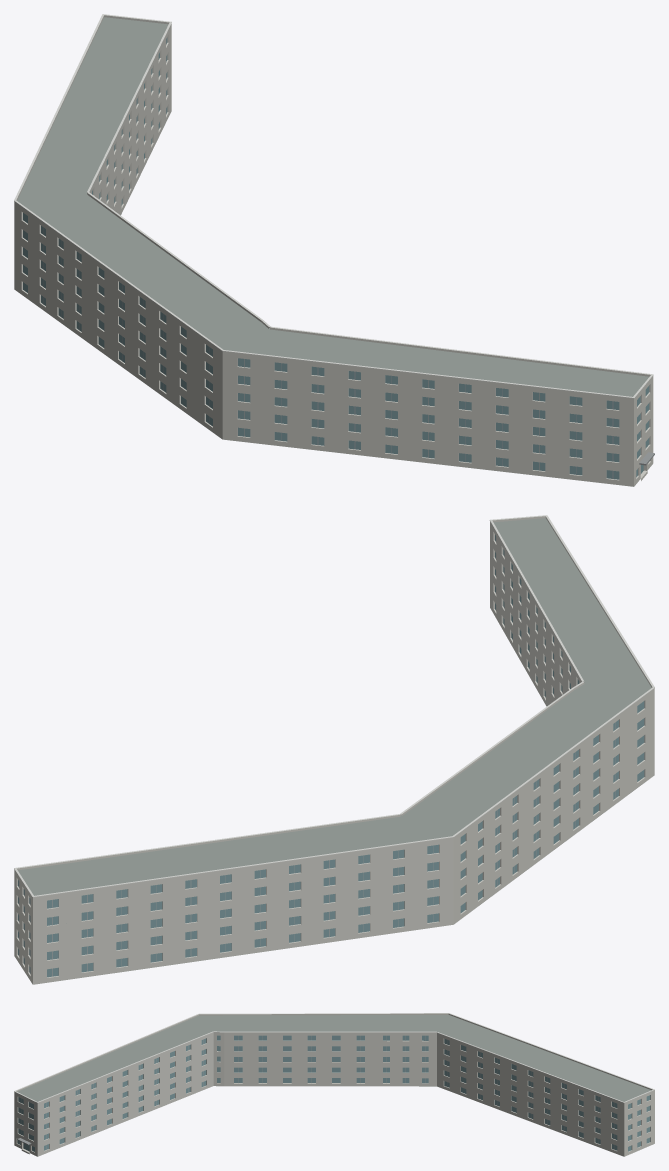
The picture shows the model from 3 angles, top to bottom: view 1: azimuth 30°, elevation 25°; view 2: azimuth 150°, elevation 25°; view 3: azimuth 270°, elevation 25°; orthographic projection. The views are drawn at different scales.
Visible parts, largest first — view 1: osm619959170__wall, osm619959170__roof, osm619959170__glass, osm619959170__trim, osm619959170__parapet, osm619959170__frame; view 2: osm619959170__wall, osm619959170__roof, osm619959170__glass, osm619959170__trim, osm619959170__parapet, osm619959170__frame; view 3: osm619959170__wall, osm619959170__roof, osm619959170__glass, osm619959170__parapet, osm619959170__trim, osm619959170__frame.
Boxes of the visible parts, box(x1,y1,x2,y2) form: osm619959170__wall: box(14, 24, 653, 486); osm619959170__roof: box(17, 17, 649, 486); osm619959170__glass: box(23, 37, 649, 479); osm619959170__trim: box(14, 14, 653, 398); osm619959170__parapet: box(14, 15, 653, 399); osm619959170__frame: box(43, 39, 640, 478); osm619959170__wall: box(14, 522, 654, 984); osm619959170__roof: box(18, 518, 651, 984); osm619959170__glass: box(18, 534, 644, 977); osm619959170__trim: box(14, 515, 654, 897); osm619959170__parapet: box(14, 516, 654, 898); osm619959170__frame: box(19, 536, 615, 976); osm619959170__wall: box(14, 1033, 654, 1156); osm619959170__roof: box(17, 1015, 651, 1156); osm619959170__glass: box(17, 1035, 650, 1151); osm619959170__parapet: box(14, 1013, 654, 1103); osm619959170__trim: box(14, 1013, 654, 1102); osm619959170__frame: box(19, 1036, 614, 1149).
Size of the model in its own units: 56.28 by 16.25 by 170.
